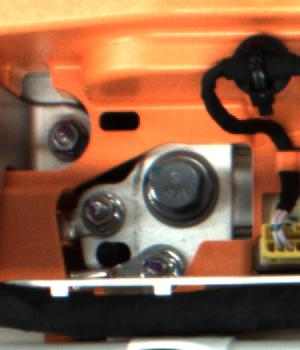nut_b: (134, 143, 220, 230)
screw_s: (78, 192, 129, 234), (40, 113, 88, 157), (137, 244, 180, 275)
